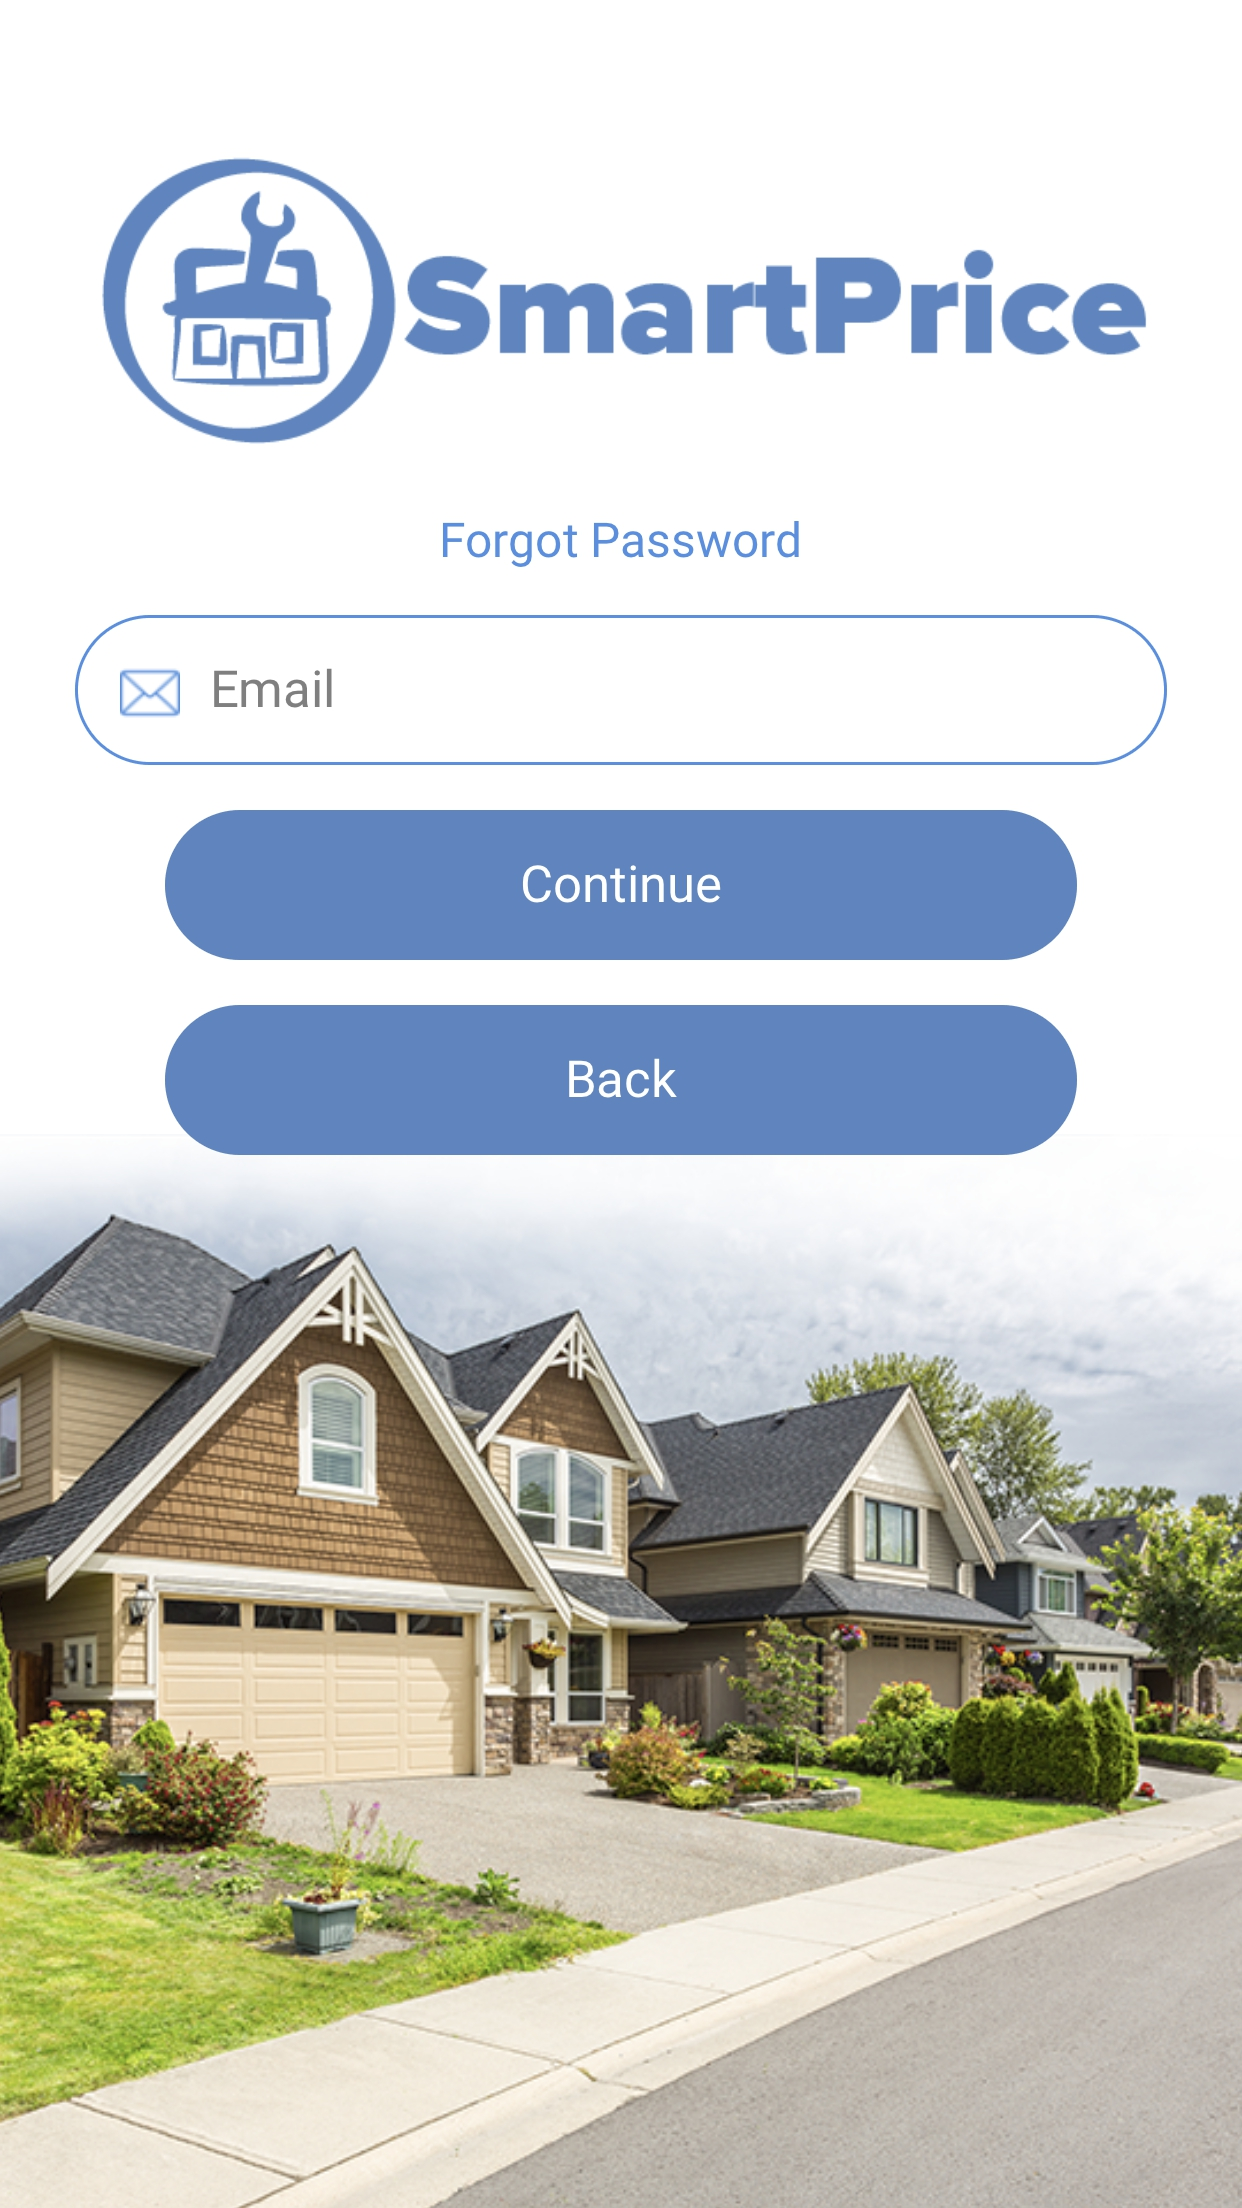EditText: (74, 614, 1168, 766)
Icon: (120, 669, 182, 717)
Image: (2, 1203, 1242, 2208), (102, 159, 397, 444)
Text: (403, 249, 1146, 356), (443, 522, 801, 569), (214, 667, 334, 710)
TextButton: (165, 1004, 1078, 1156), (165, 810, 1077, 961)
